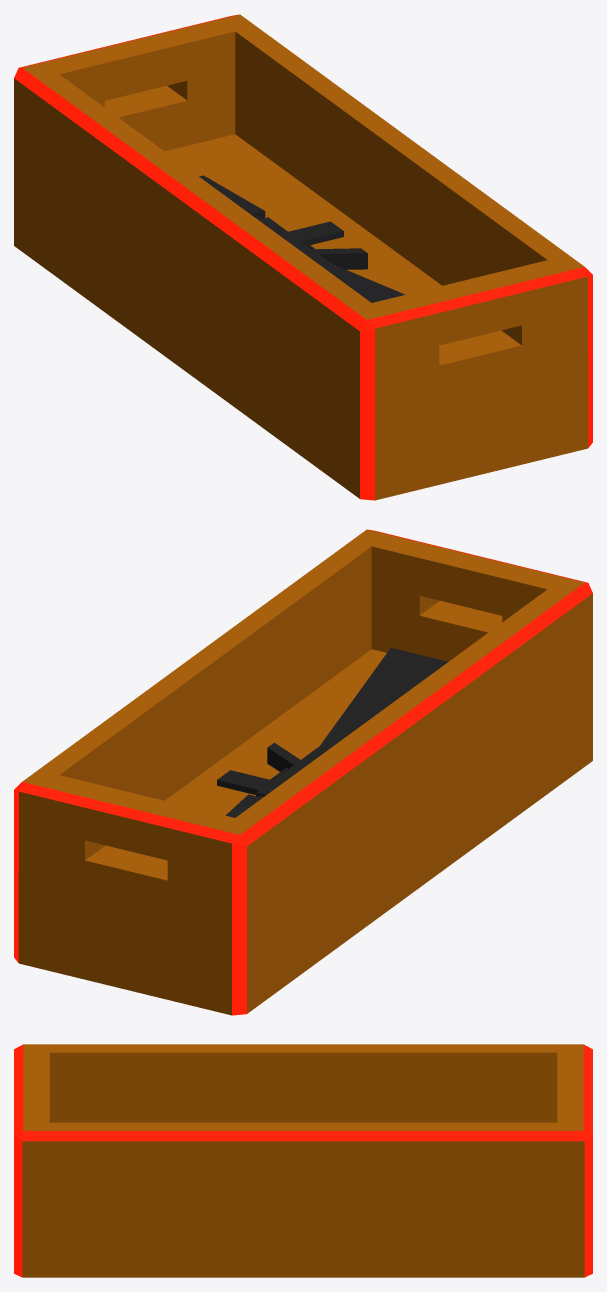
Rendered from OF[obs]_Gun.fbx.
3 views of the same model, one above another, from view 1: azimuth 30°, elevation 25°; view 2: azimuth 150°, elevation 25°; view 3: azimuth 270°, elevation 25° (orthographic). The views are drawn at different scales.
Visible parts, largest first — view 1: Cube.003; view 2: Cube.003; view 3: Cube.003.
Boxes of the visible parts, bbox=[...] form: Cube.003: bbox=[14, 14, 592, 500]; Cube.003: bbox=[14, 529, 592, 1015]; Cube.003: bbox=[14, 1044, 592, 1277].
Bounding box in the file's own units: 81.96 × 59.49 × 217.
